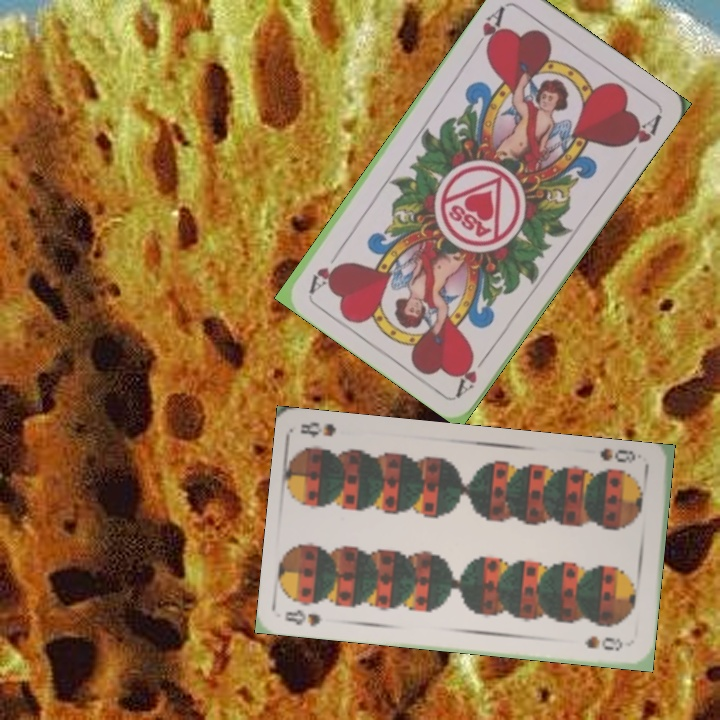HA: (452, 346, 494, 398), (469, 2, 508, 56)
S8: (281, 605, 324, 629), (596, 445, 639, 466)
